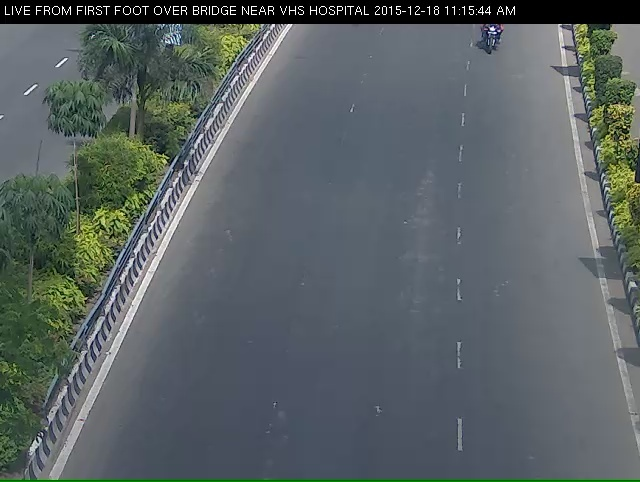Person: (478, 22, 506, 58)
